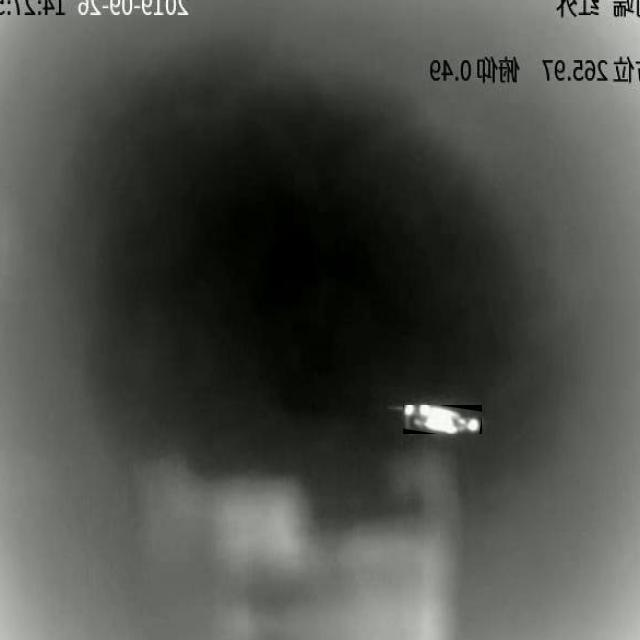drone: (404, 405, 481, 434)
